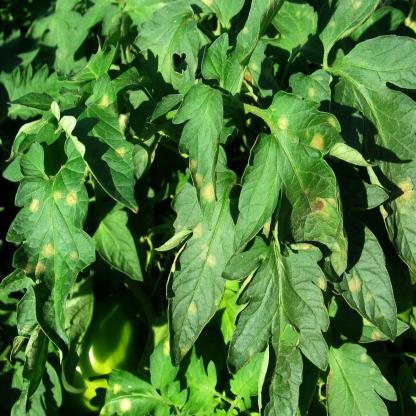Tomato mold leaf: (234, 84, 359, 269), (150, 166, 245, 365), (6, 133, 89, 350), (223, 241, 338, 394), (54, 78, 140, 206), (328, 220, 401, 346), (179, 82, 224, 231)
